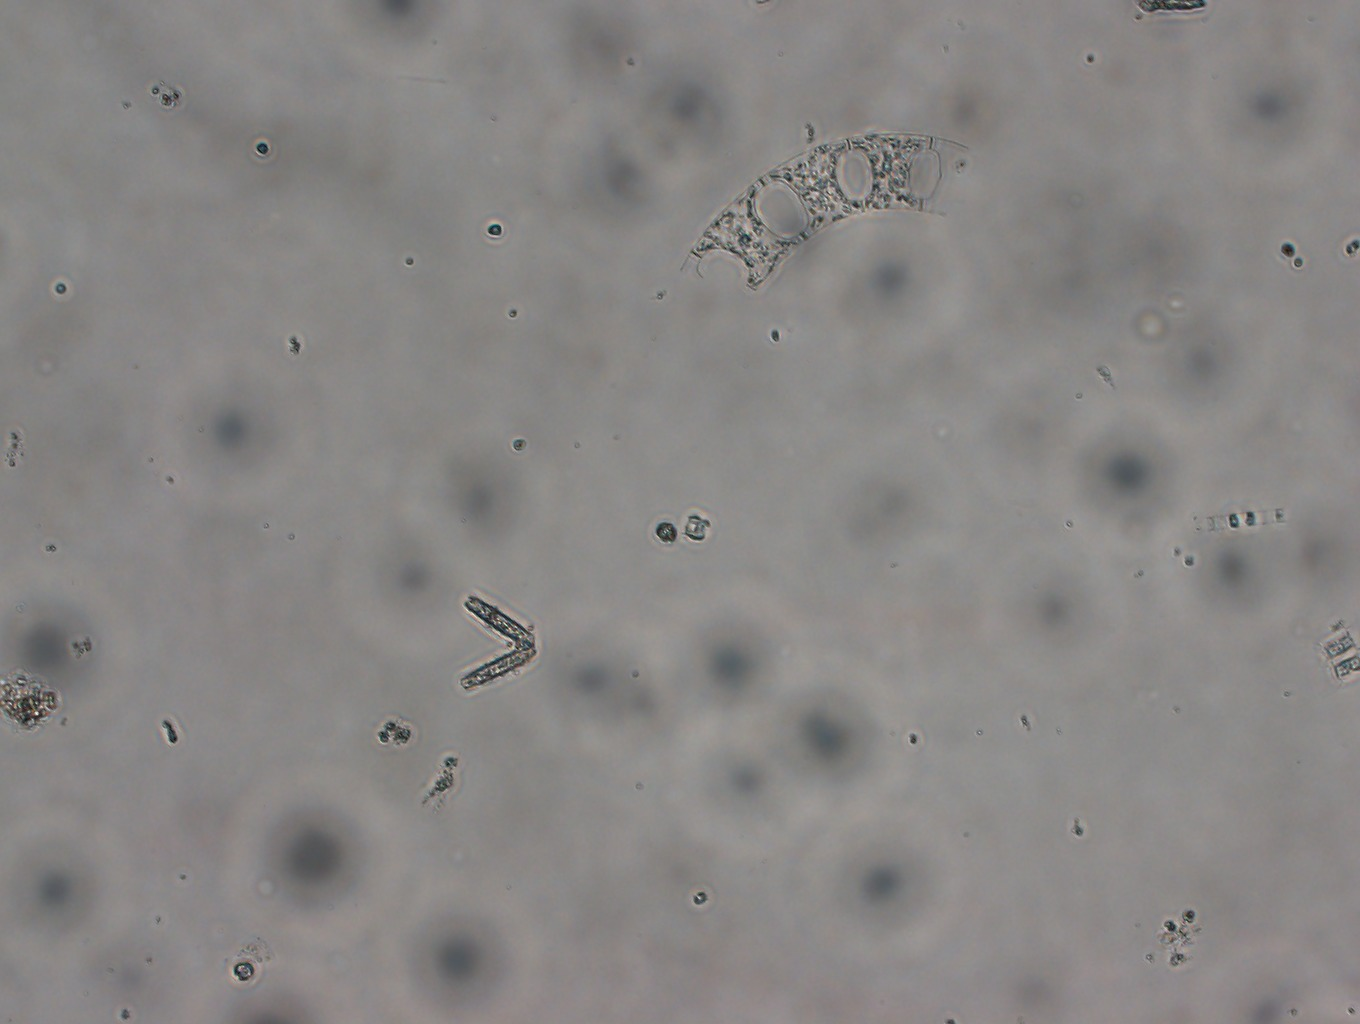eucampia: (670, 126, 982, 300)
skeletonema: (1182, 492, 1295, 543)
thalassionema nitzschioides: (450, 583, 539, 695)
